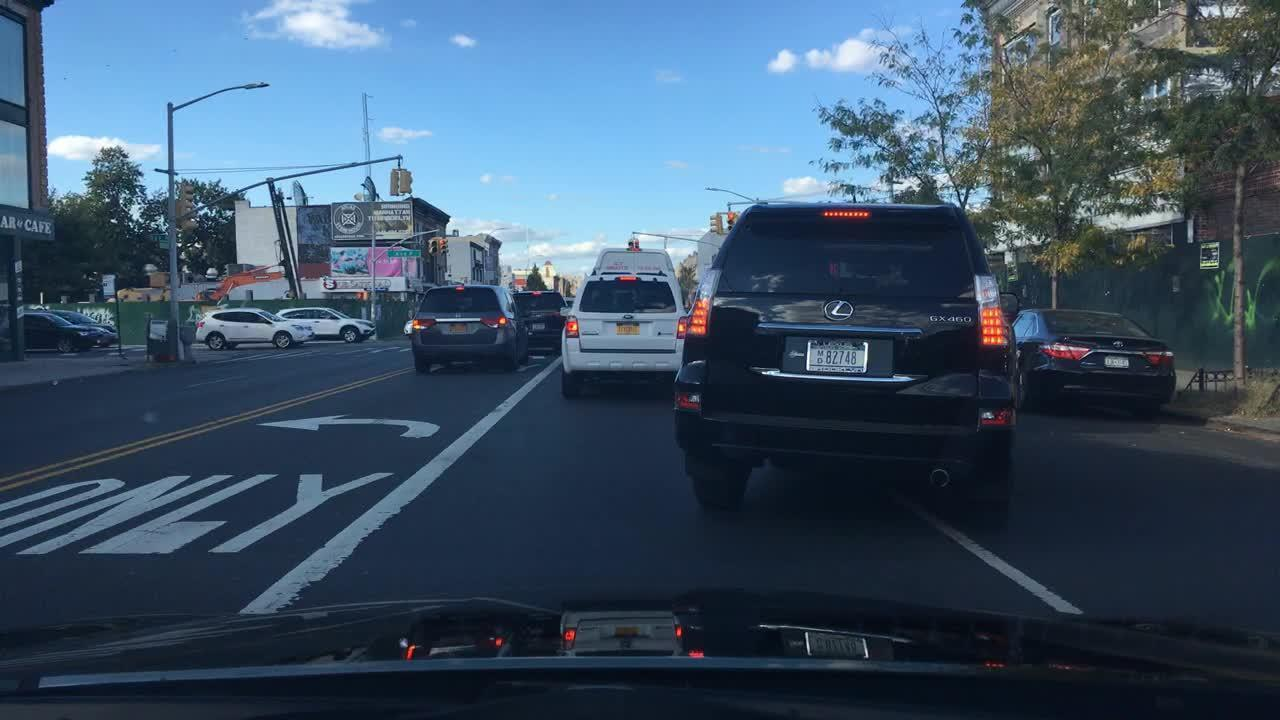Honda: (452, 313, 465, 321)
ford: (619, 313, 635, 321)
lexus: (816, 294, 858, 326)
